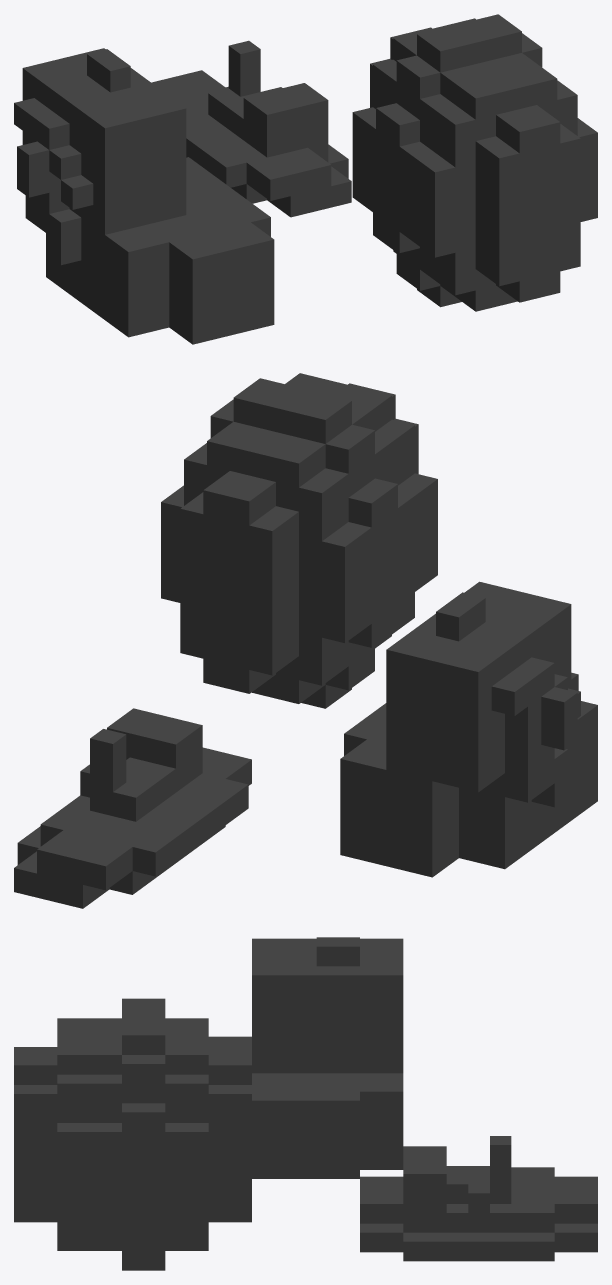
The model's file is Stone and paper-2.obj.
3 renders of one model, top to bottom at view 1: azimuth 30°, elevation 25°; view 2: azimuth 150°, elevation 25°; view 3: azimuth 270°, elevation 25°, orthographic. The views are drawn at different scales.
Size of the model in its own units: 2.1 by 1.2 by 2.7.
Materials: 1 (1 with a texture image).
